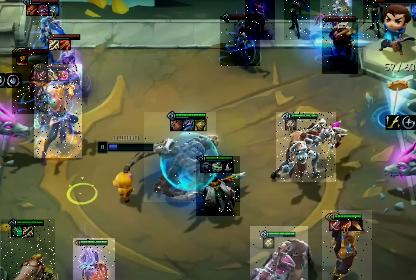1_kaisa: (284, 0, 310, 40), (363, 0, 387, 38)
1_soraka: (320, 0, 352, 28)
1_volibear: (322, 18, 358, 74)
1_yasuo: (50, 36, 96, 90), (73, 238, 115, 280), (245, 0, 275, 40)
2_jax: (196, 156, 240, 216)
2_jayce: (276, 112, 336, 182)
2_joy: (1, 219, 55, 280)
2_kaisa: (20, 0, 62, 60)
2_karma: (220, 16, 260, 66)
2_sejuani: (250, 226, 308, 280)
2_terra: (144, 112, 216, 202)
3_leesin: (34, 64, 82, 158)
3_nilah: (322, 210, 372, 280)
3_sett: (12, 50, 48, 114)
